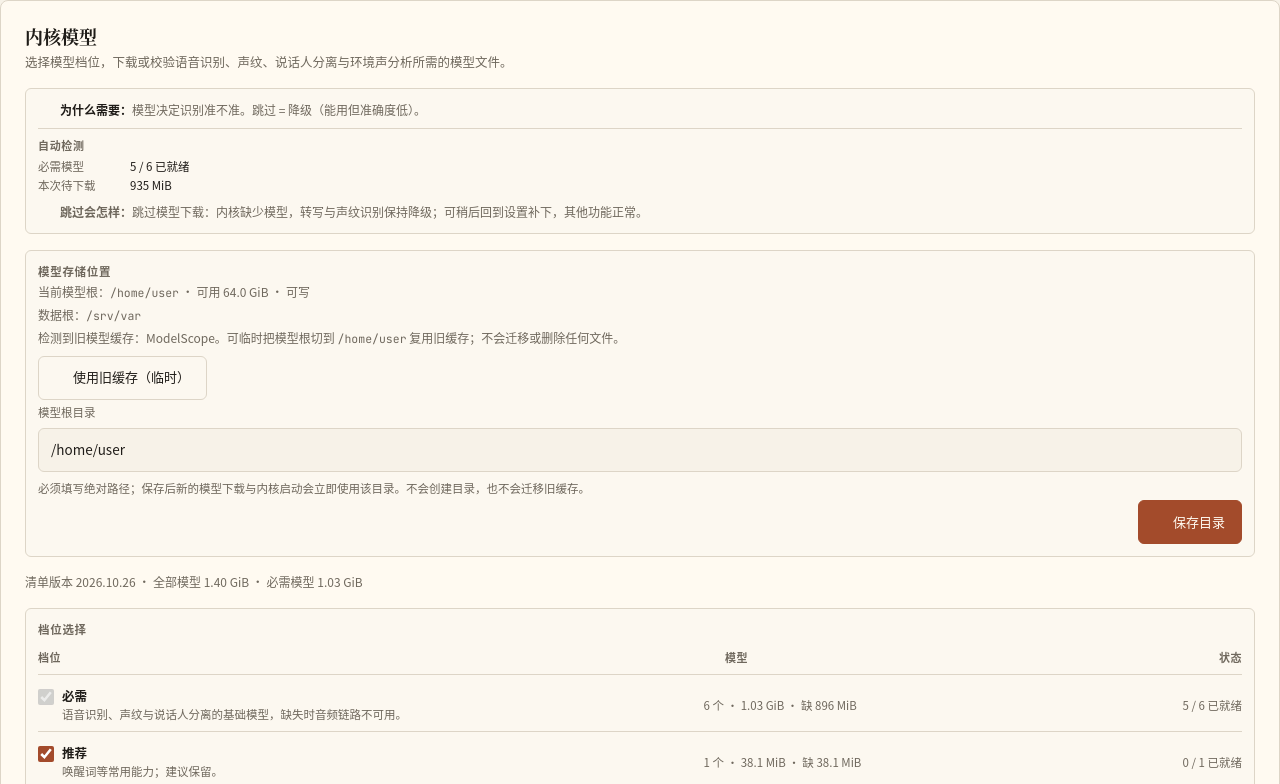
Scenario: KernelModelsStep › switches to the legacy cache root as a temporary root after password
This screenshot has width=1280, height=784.
Click the button "使用旧缓存（临时）": (122, 378) [38,356,207,400]
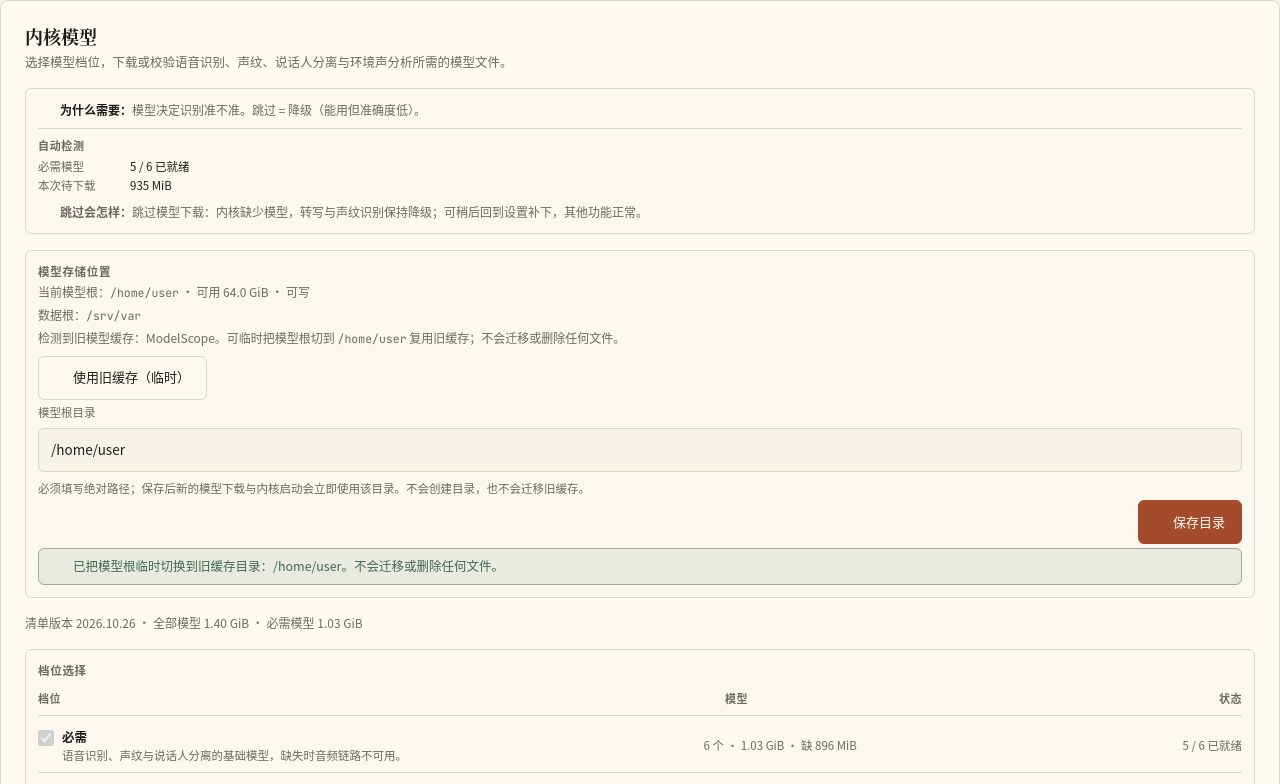
Check: the element showing "已把模型根临时切换到旧缓存目录：/home/user。不会迁移或删除任何文件。" is shown, box [38,548,1242,585]
